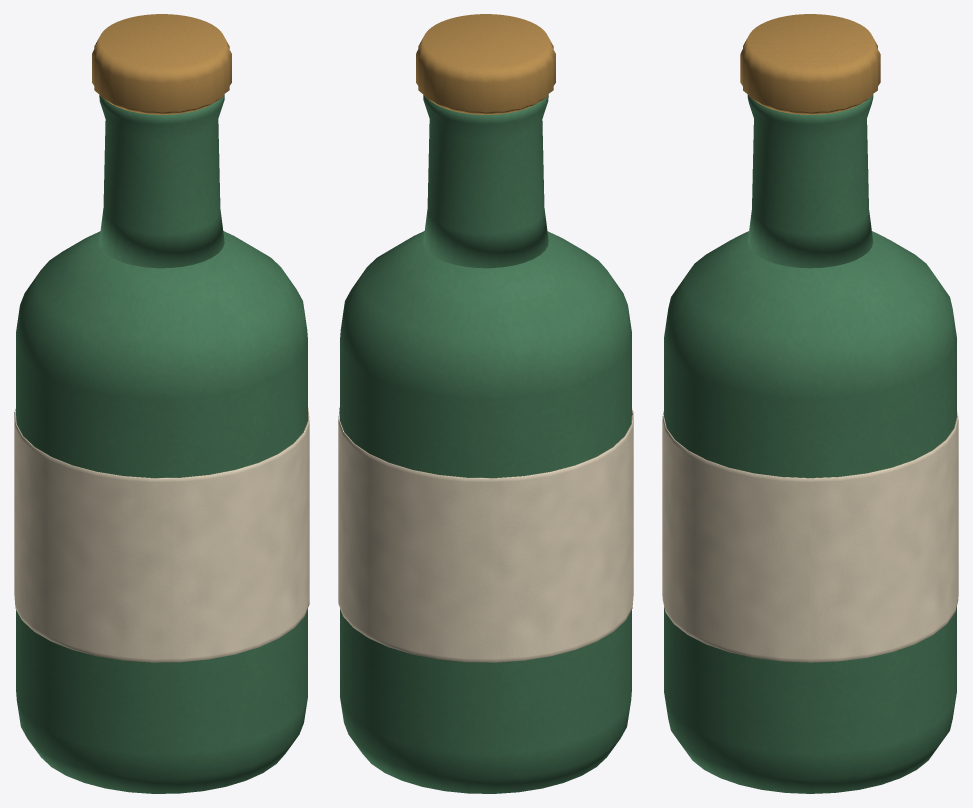
File: bottle.glb
3 views of the same model, side by side, from view 1: azimuth 30°, elevation 25°; view 2: azimuth 150°, elevation 25°; view 3: azimuth 270°, elevation 25° (orthographic).
Visible parts, largest first — view 1: Body, LabelBand, Neck, Cap; view 2: Body, LabelBand, Neck, Cap; view 3: Body, LabelBand, Neck, Cap.
Boxes of the visible parts, left/top/right/bottom form: Body: left=16, top=231, right=307, bottom=793; LabelBand: left=14, top=407, right=309, bottom=662; Neck: left=99, top=94, right=224, bottom=268; Cap: left=92, top=14, right=231, bottom=114; Body: left=340, top=231, right=631, bottom=793; LabelBand: left=338, top=407, right=633, bottom=662; Neck: left=423, top=94, right=548, bottom=268; Cap: left=416, top=14, right=555, bottom=114; Body: left=664, top=231, right=956, bottom=793; LabelBand: left=662, top=411, right=958, bottom=662; Neck: left=747, top=94, right=873, bottom=268; Cap: left=740, top=14, right=880, bottom=114.
Size of the model in its own units: 0.14 by 0.37 by 0.14.
3 materials, 3 textured.
